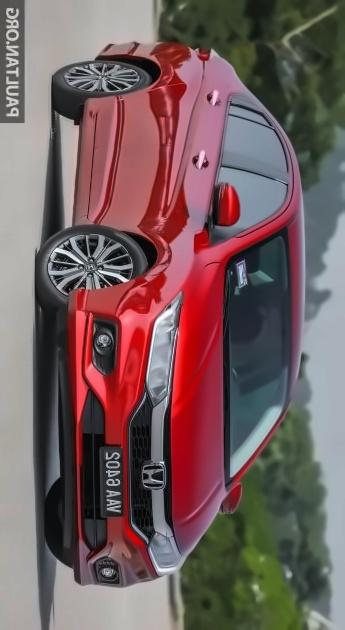Car hood: (166, 258, 231, 559)
Driver-s door - -F-R-: (40, 144, 322, 237)
Fender - -F-R-: (65, 217, 219, 308)
Fender - -R-R-: (101, 43, 260, 108)
Front bumper: (52, 267, 170, 590)
Headlight - -L-: (147, 524, 182, 579)
Headlight - -R-: (143, 288, 184, 408)
Passenger-s door - -R-R-: (73, 82, 316, 179)
Side bumper - -R-: (58, 82, 121, 229)
Side mirror - -R-: (201, 178, 242, 237)
